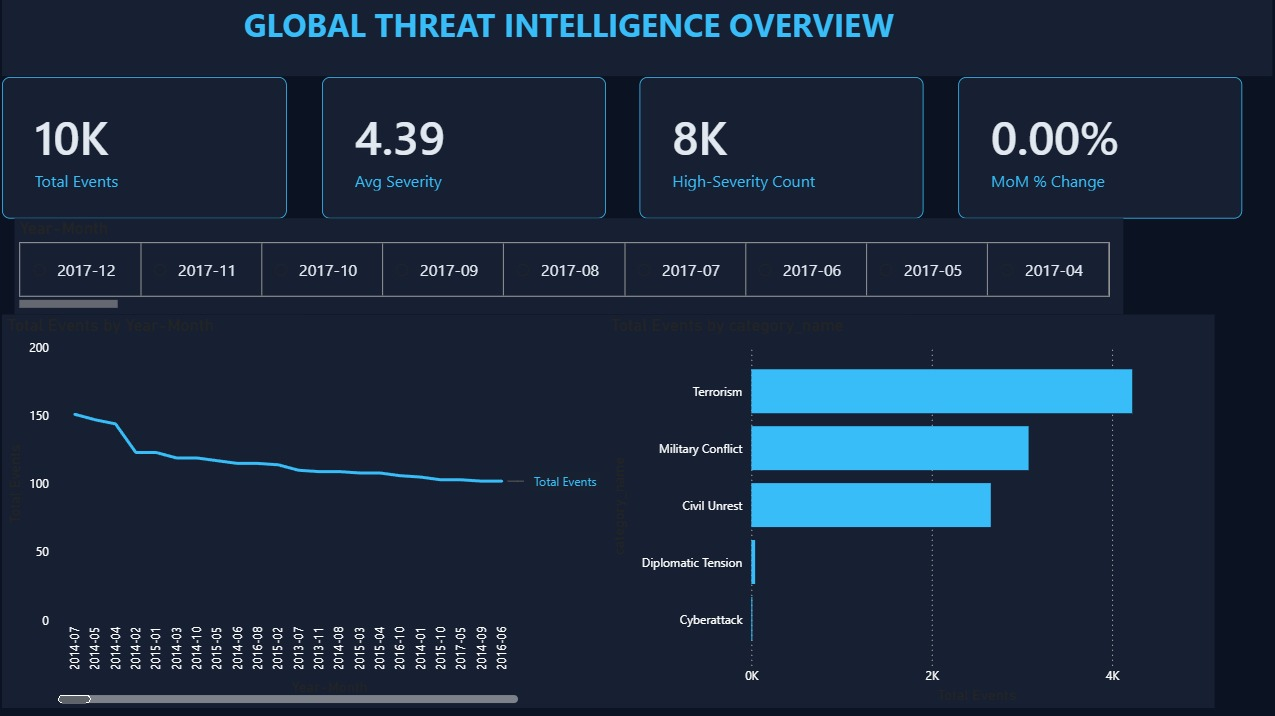

This screenshot's page, from the dashboard's own definition file:
{"tool":"powerbi","page":{"name":"Page 1","canvas":[1280,720],"ordinal":0},"visuals":[{"type":"cardVisual","fields":{"Data":["fact_events.Total Events"]},"box":[5,80,285,141.2],"z":0},{"type":"shape","box":[5,0,1270.7,79.6],"z":1000},{"type":"textbox","box":[0,1.2,1143.8,78.8],"z":2000},{"type":"cardVisual","fields":{"Data":["fact_events.MoM % Change"]},"box":[961.2,80,283.8,141.2],"z":3000},{"type":"cardVisual","fields":{"Data":["fact_events.High-Severity Count"]},"box":[642.9,80,283.8,141.2],"z":4000},{"type":"cardVisual","fields":{"Data":["fact_events.Avg Severity"]},"box":[324.6,80,283.8,141.2],"z":5000},{"type":"advancedSlicerVisual","fields":{"Values":["DimDate.Year-Month"]},"box":[17.5,221.2,1108.8,96.2],"z":6000},{"type":"lineChart","fields":{"Category":["DimDate.Year-Month"],"Y":["fact_events.Total Events"]},"box":[5,317.5,603.8,393.8],"z":7000},{"type":"clusteredBarChart","fields":{"Category":["dim_categories.category_name"],"Y":["fact_events.Total Events"]},"box":[608.8,317.5,608.8,393.8],"z":8000}]}

Visuals, with their boxes in screenshot pixels (x1, y1, x2, y2), scaled from the page's 1280x720 canvas onto the 1275x716 screenshot:
cardVisual - fact_events.Total Events: locate(5, 80, 289, 220)
shape: locate(5, 0, 1271, 79)
textbox: locate(0, 1, 1139, 80)
cardVisual - fact_events.MoM % Change: locate(957, 80, 1240, 220)
cardVisual - fact_events.High-Severity Count: locate(640, 80, 923, 220)
cardVisual - fact_events.Avg Severity: locate(323, 80, 606, 220)
advancedSlicerVisual - DimDate.Year-Month: locate(17, 220, 1122, 316)
lineChart - DimDate.Year-Month x fact_events.Total Events: locate(5, 316, 606, 707)
clusteredBarChart - dim_categories.category_name x fact_events.Total Events: locate(606, 316, 1213, 707)
